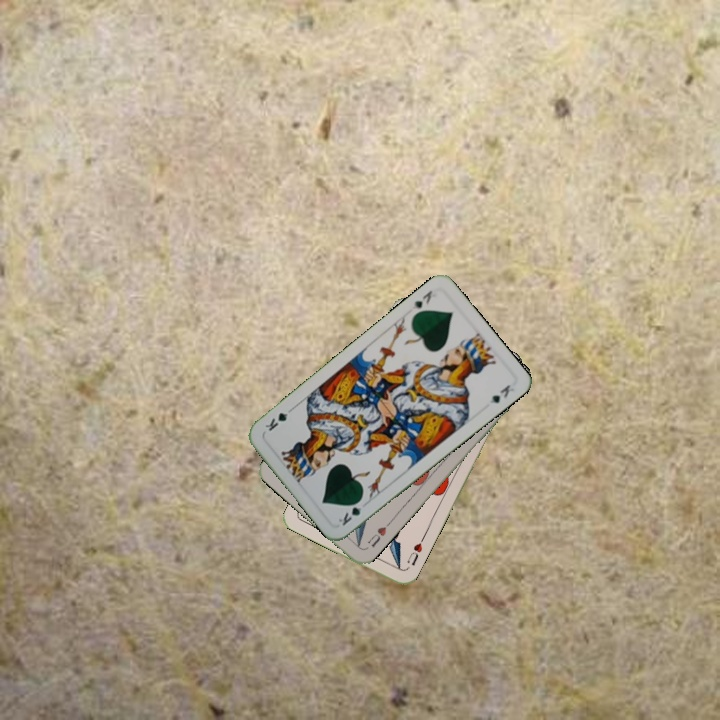GK: (334, 495, 365, 529), (408, 286, 435, 312)
HU: (363, 523, 389, 550), (403, 539, 425, 568)
